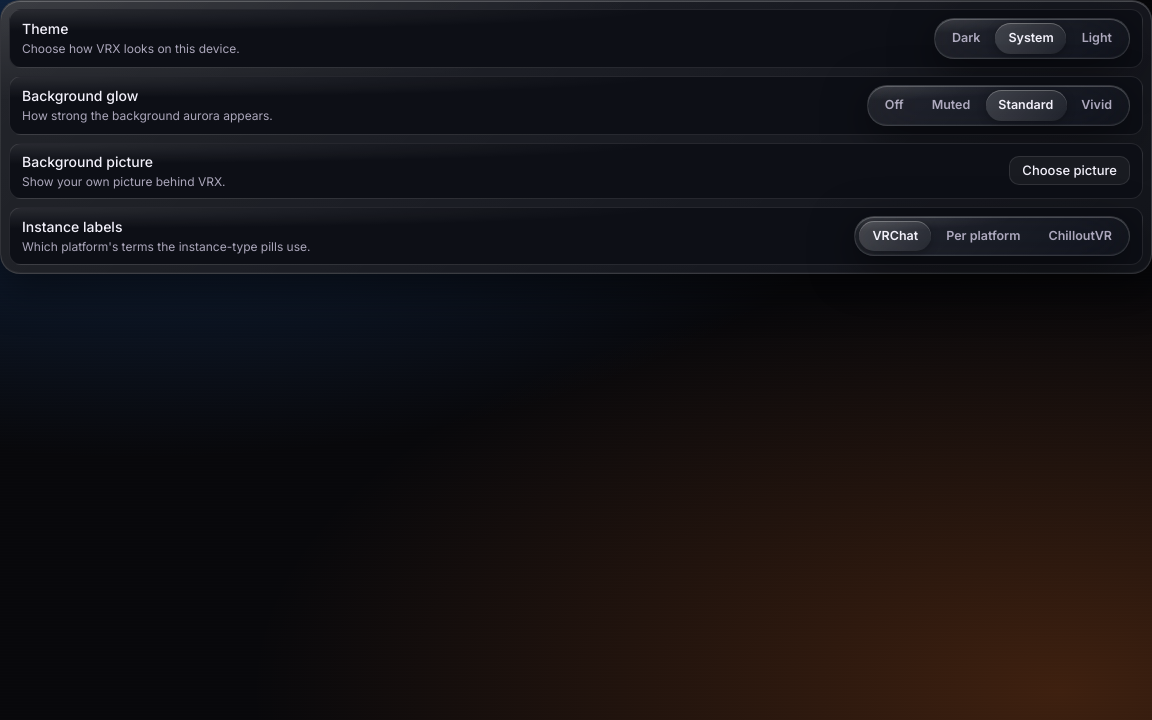
SettingsView — background picture › explains a refused picture and stays quiet when the dialog is cancelled
Step 1. Click the button "Choose picture" → (1070, 171), box [1009, 156, 1130, 185]
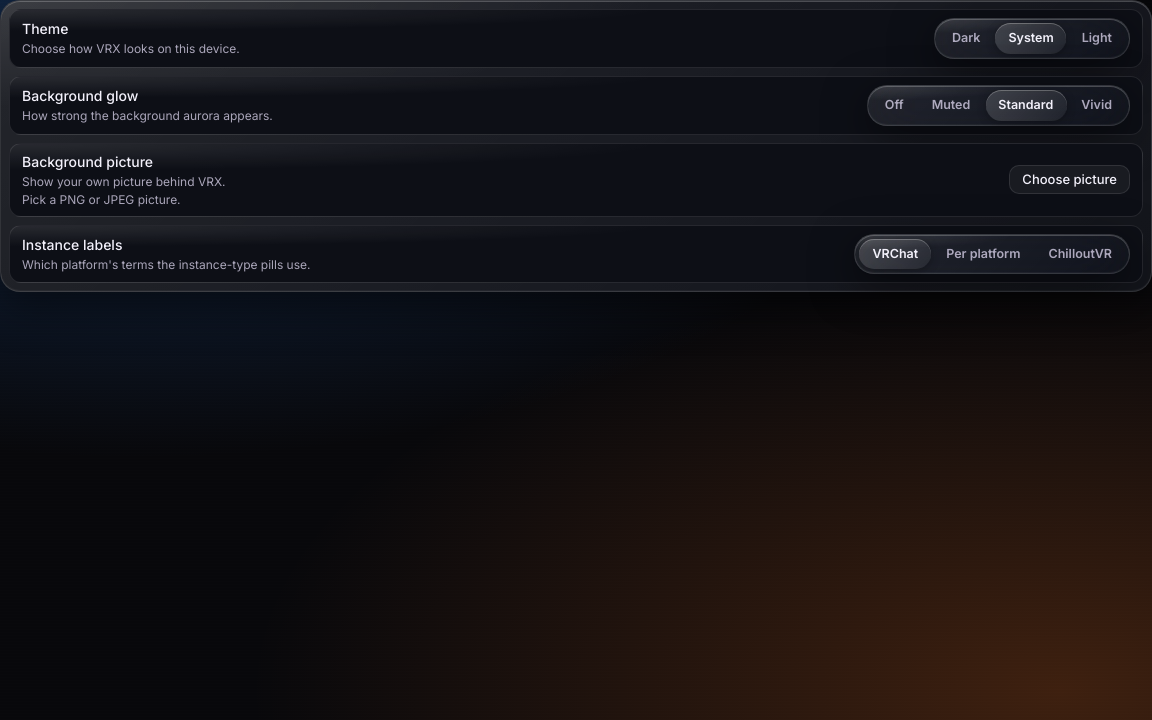
Now the message reads "Pick a PNG or JPEG picture.", box [22, 192, 181, 206]
Step 2. Click the button "Choose picture" → (1070, 180), box [1009, 165, 1130, 194]
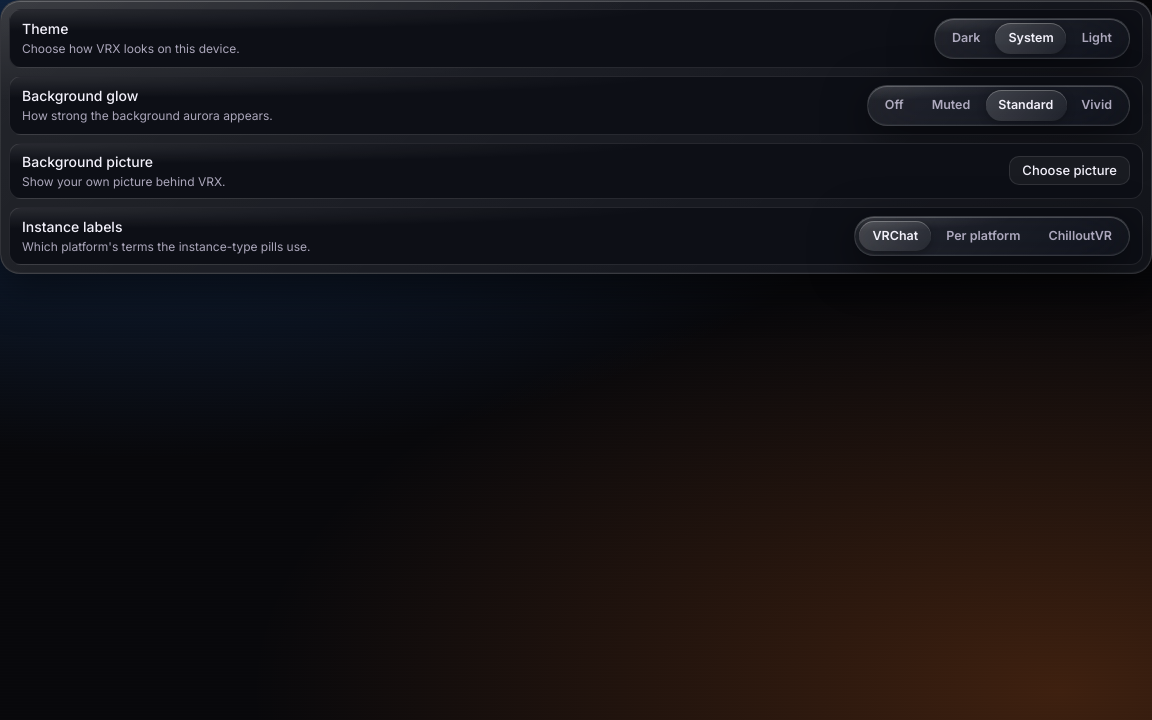
Now the message "Pick a PNG or JPEG picture." is gone
